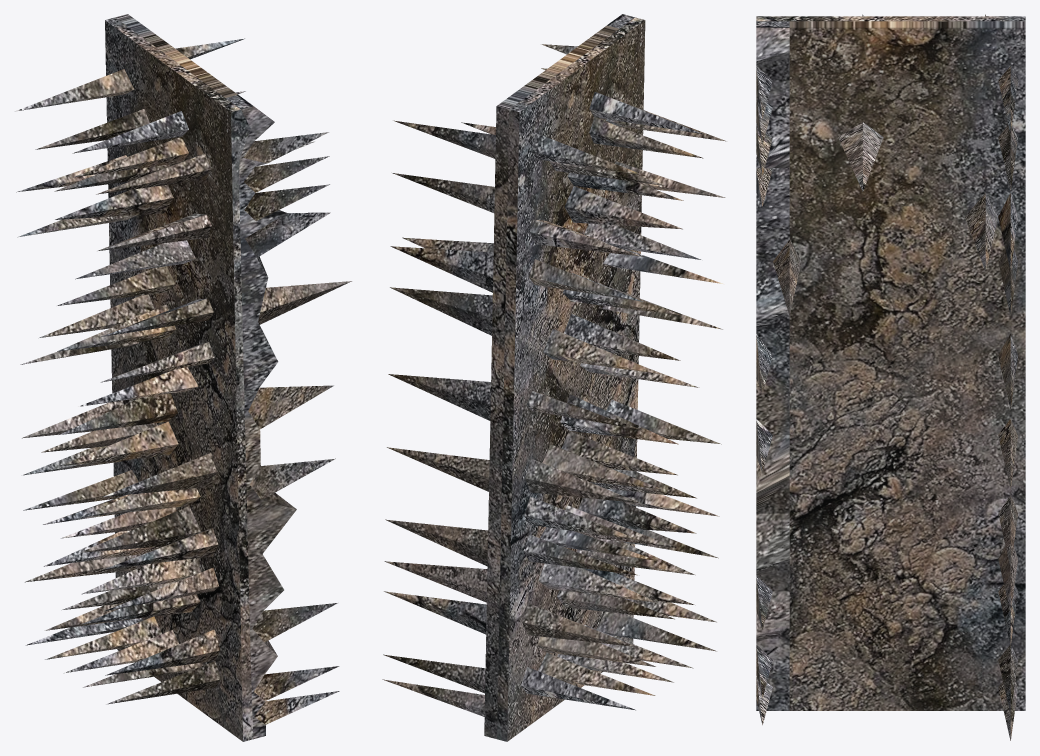
The model's file is side_spike.fbx.
3 views of the same model, side by side, from view 1: azimuth 30°, elevation 25°; view 2: azimuth 150°, elevation 25°; view 3: azimuth 270°, elevation 25° (orthographic). The views are drawn at different scales.
Parts seen in each view (by area): view 1: headusOBJexport121; view 2: headusOBJexport121; view 3: headusOBJexport121.
Part boxes in pixels (x1=…): headusOBJexport121: x1=15, y1=14, x2=351, y2=741; headusOBJexport121: x1=382, y1=14, x2=726, y2=741; headusOBJexport121: x1=756, y1=14, x2=1025, y2=740.
Bounding box in the file's own units: 104 × 248 × 89.27.
